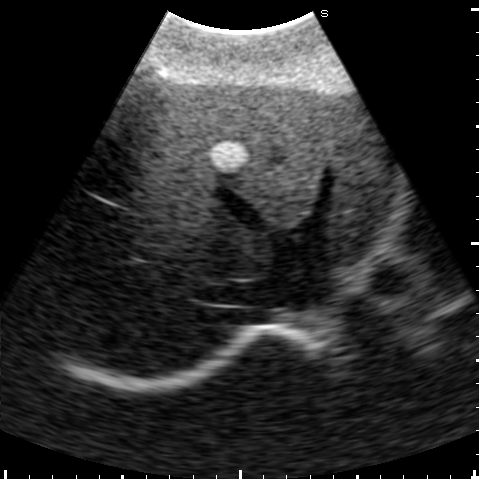S2: (327, 99, 395, 265)
S4: (121, 78, 328, 227)
S7: (49, 248, 223, 374)
S8: (76, 142, 269, 290)
Tumor: (211, 139, 250, 172)
